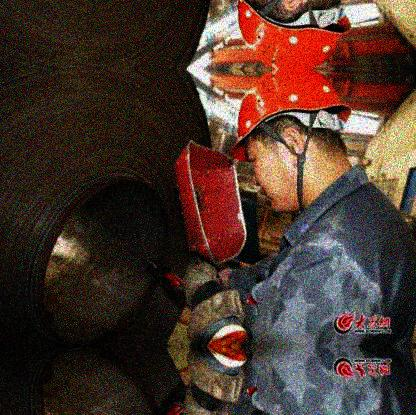helmet: (228, 70, 354, 211)
